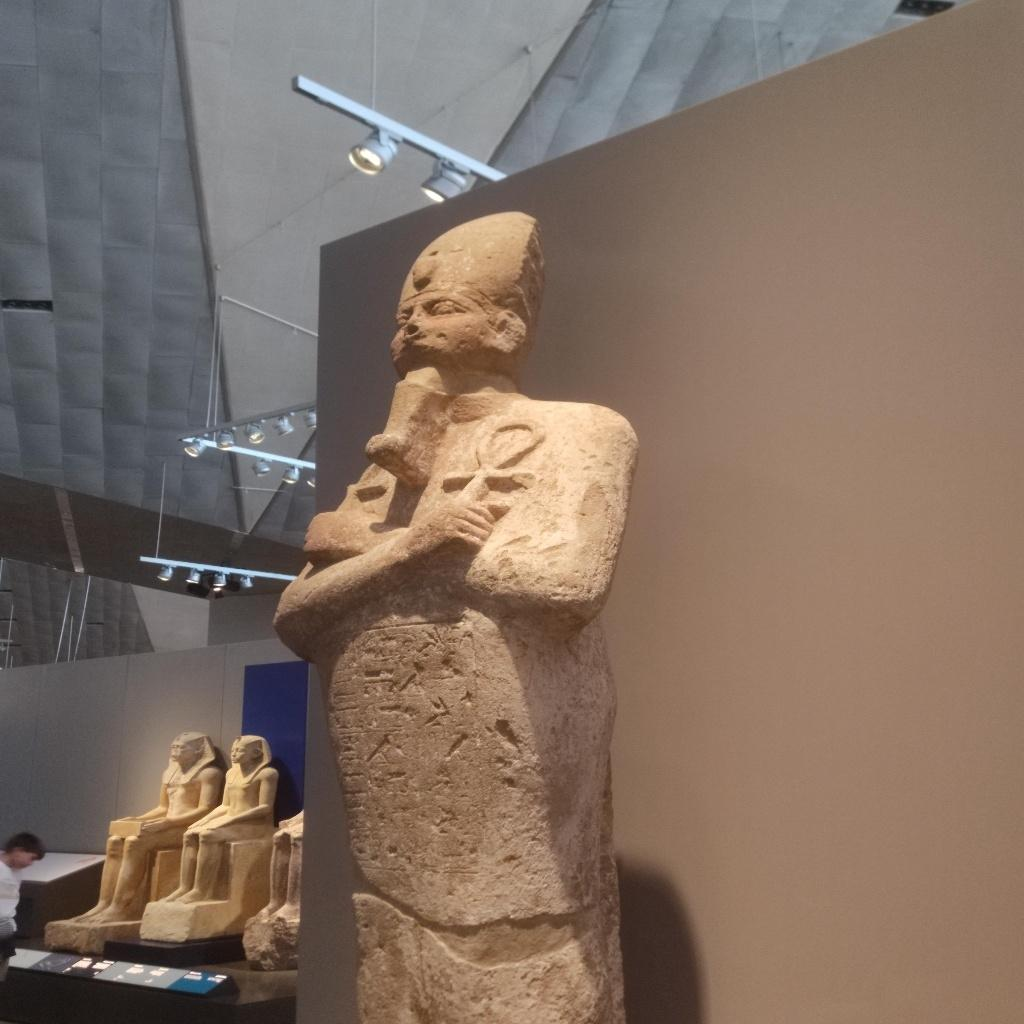Statue of Mentuhotep II: (266, 203, 684, 1024)
